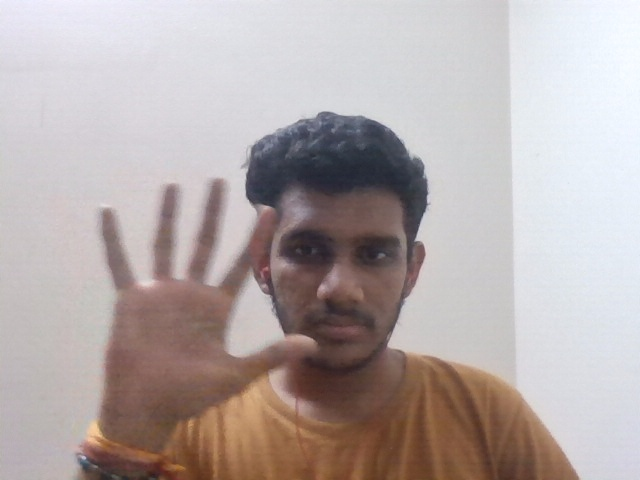hello: (93, 169, 313, 432)
